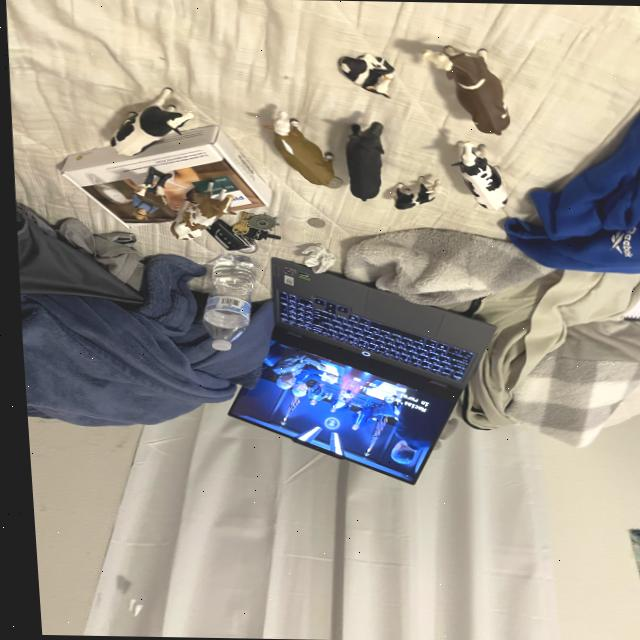cow: (420, 23, 526, 147), (256, 107, 348, 201), (101, 83, 196, 172), (440, 132, 512, 219), (158, 176, 236, 248), (331, 46, 398, 98), (343, 122, 382, 201), (386, 171, 442, 212), (133, 175, 171, 212)
person: (123, 188, 155, 221)
